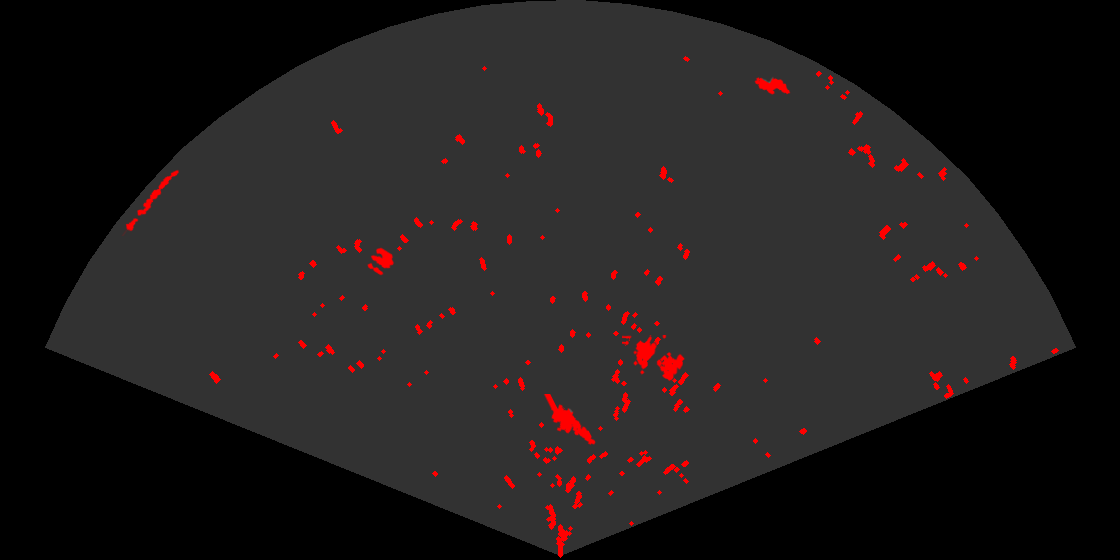AUV: (753, 76, 792, 96)
ball: (366, 246, 396, 277)
cage: (622, 335, 686, 383)
chain: (120, 168, 181, 236)
frogman: (542, 394, 597, 447)
